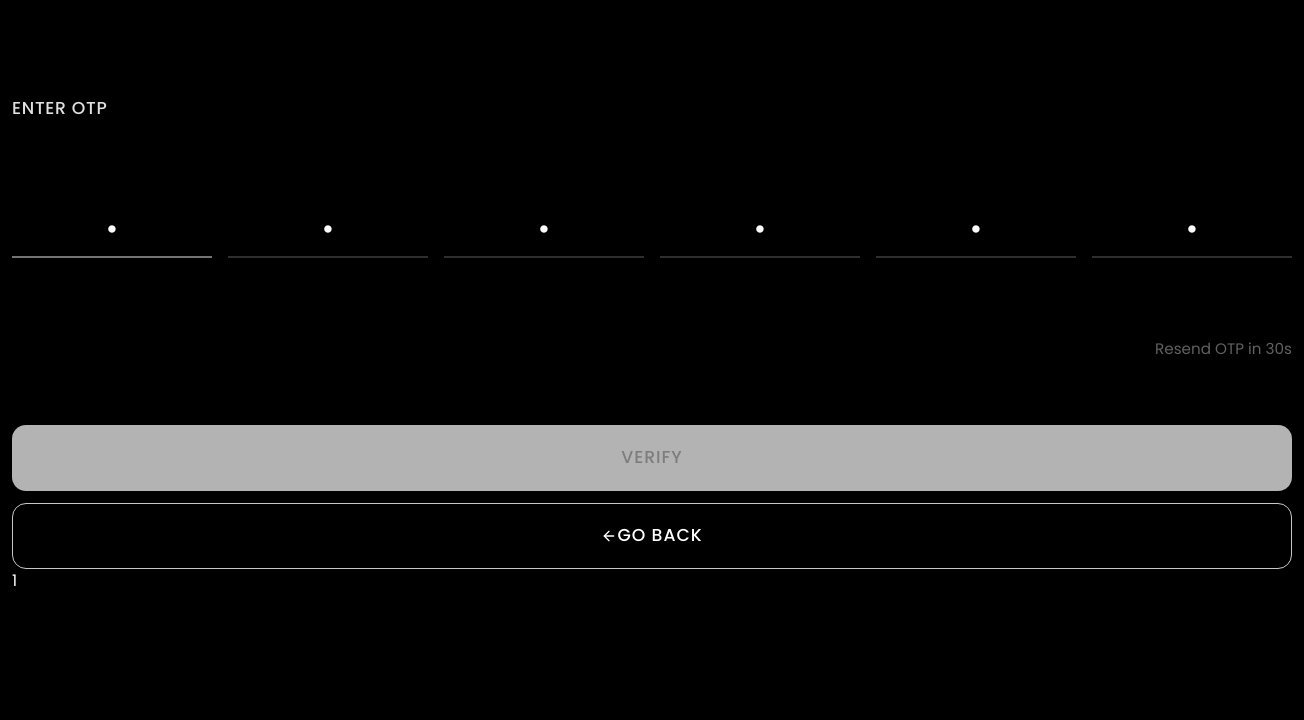
Test case: OtpStep › verifies the code and advances to the next step
The width and height of the screenshot is (1304, 720).
Type "1" into the field named "Digit 1 of 6" at (112, 230), box [12,202,212,258]
Type "2" into the field named "Digit 2 of 6" at (328, 230), box [228,202,428,258]
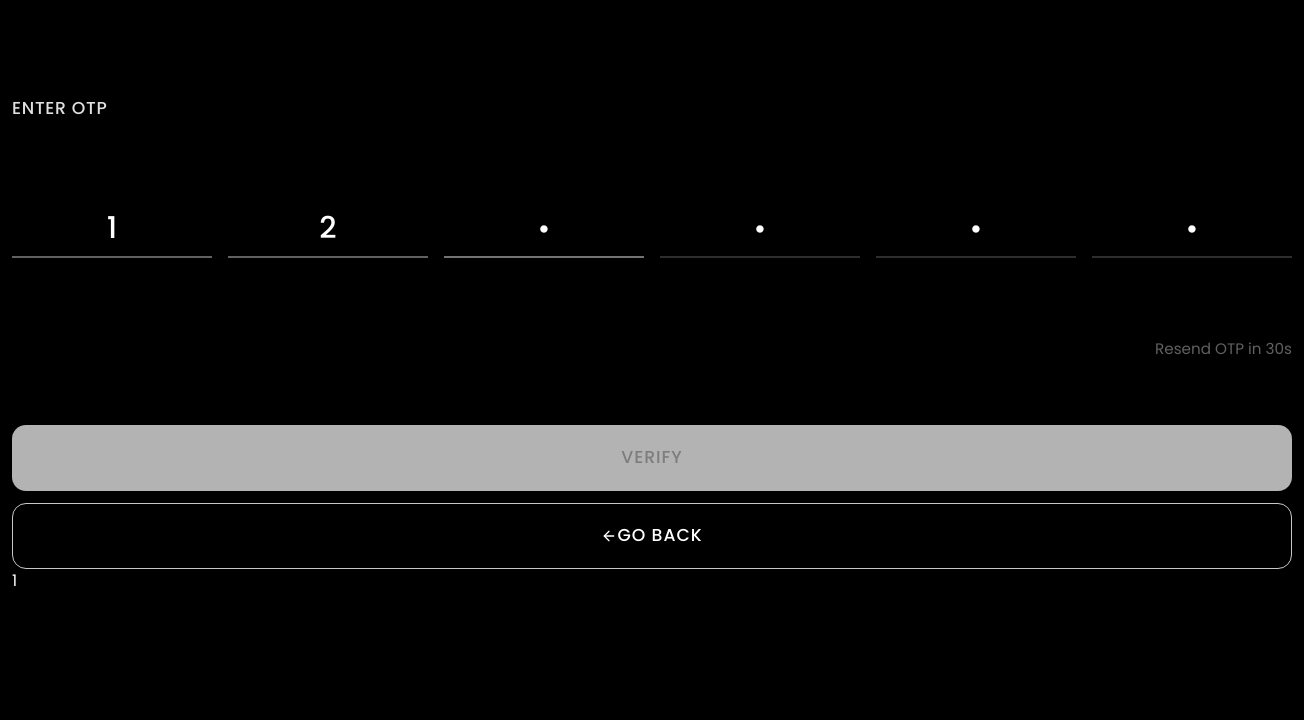
Type "3" into the field named "Digit 3 of 6" at (544, 230), box [444,202,644,258]
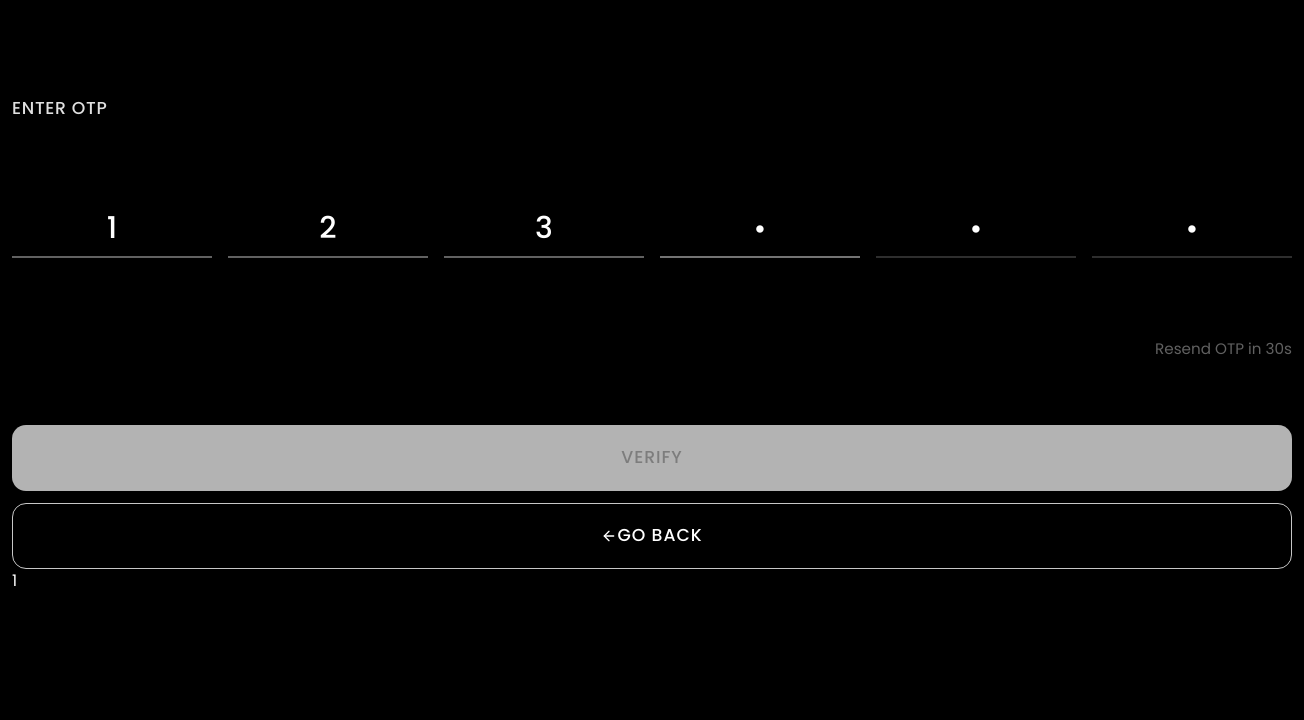
Type "4" into the field named "Digit 4 of 6" at (760, 230), box [660,202,860,258]
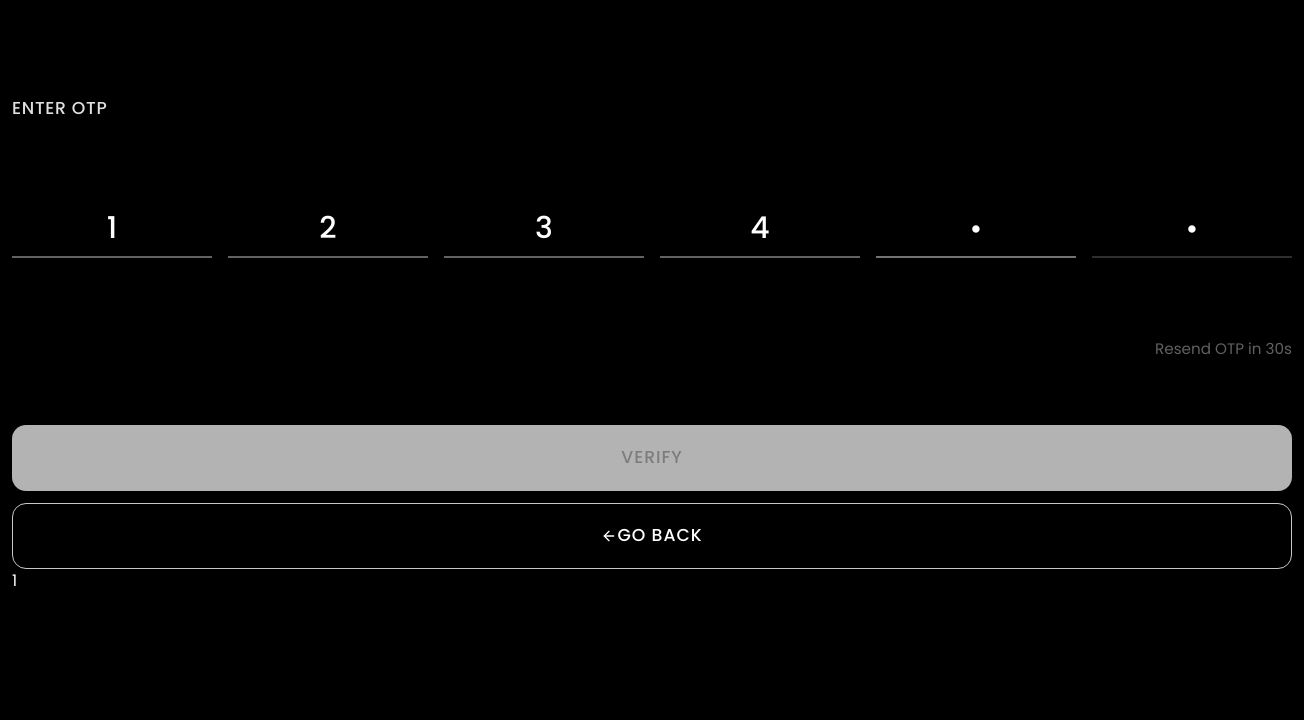
Type "5" into the field named "Digit 5 of 6" at (976, 230), box [876,202,1076,258]
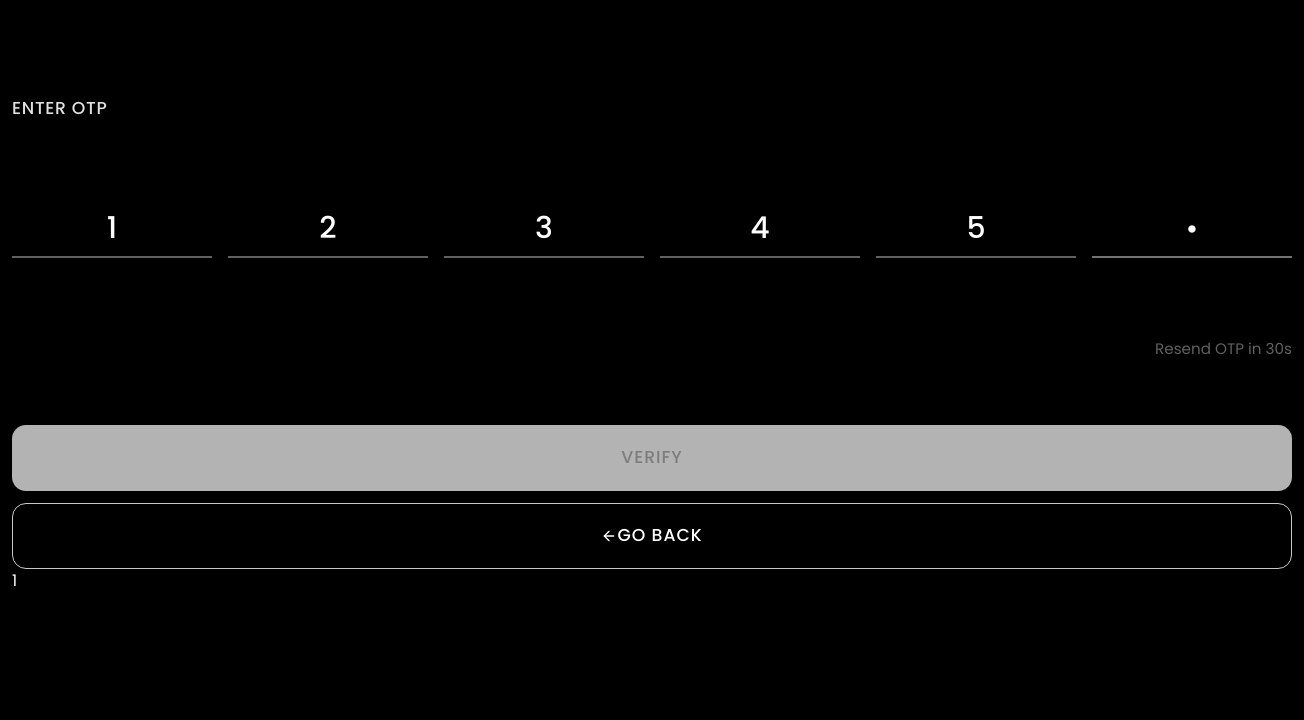
Type "6" into the field named "Digit 6 of 6" at (1192, 230), box [1092,202,1292,258]
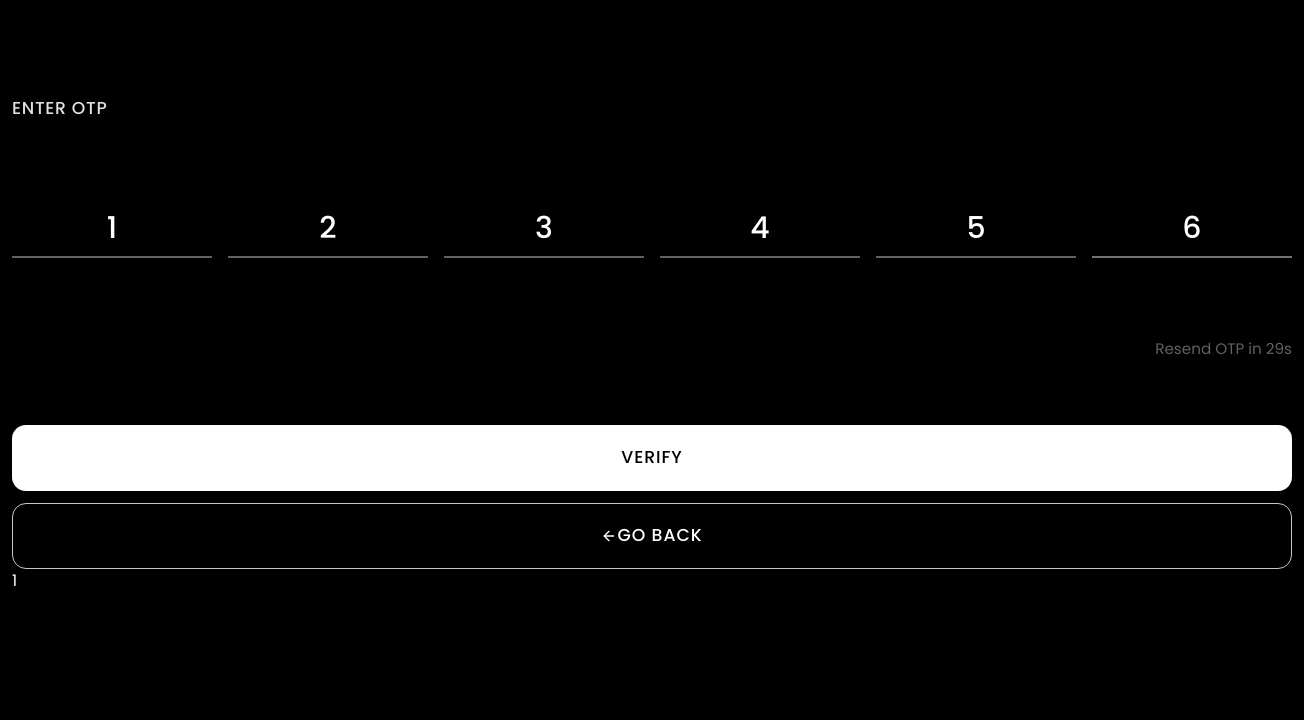
Click the button "VERIFY" at (652, 458), box [12,425,1292,491]
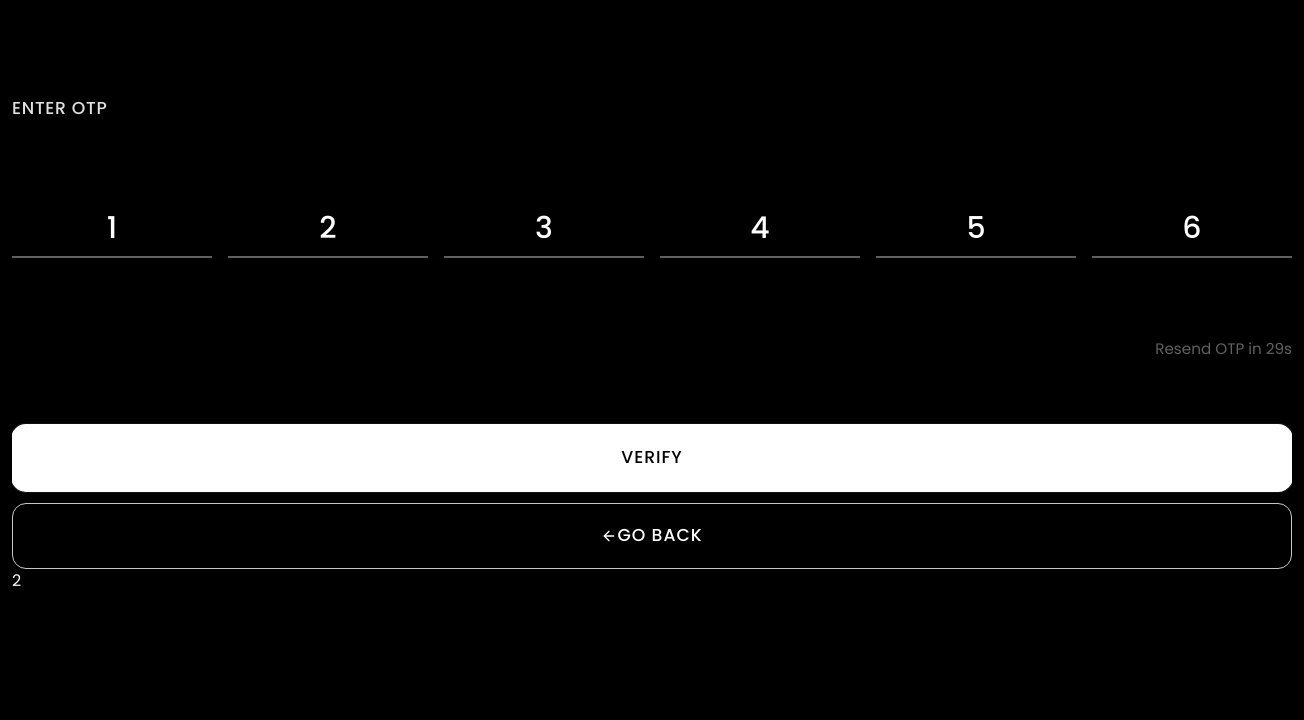
Result: the text with test id "step-index" reads "2" at [12,569,21,592]
